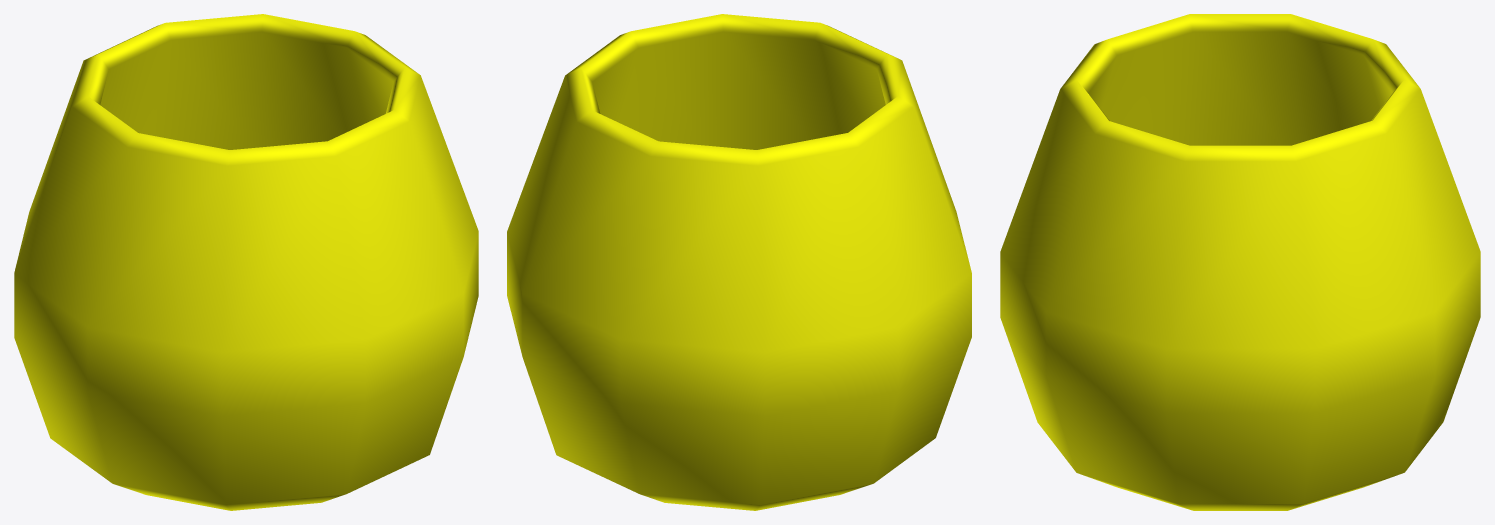
File: Pot_1.fbx
The picture shows the model from 3 angles, left to right: view 1: azimuth 30°, elevation 25°; view 2: azimuth 150°, elevation 25°; view 3: azimuth 270°, elevation 25°; orthographic projection.
Parts seen in each view (by area): view 1: Pot_1; view 2: Pot_1; view 3: Pot_1.
Boxes of the visible parts, left/top/right/bottom form: Pot_1: left=14, top=14, right=478, bottom=510; Pot_1: left=507, top=14, right=971, bottom=510; Pot_1: left=1000, top=14, right=1480, bottom=510.
Bounding box in the file's own units: 46.4 × 41.43 × 48.76.
